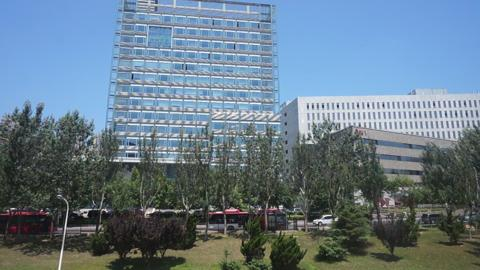UAV: (231, 125, 239, 129)
